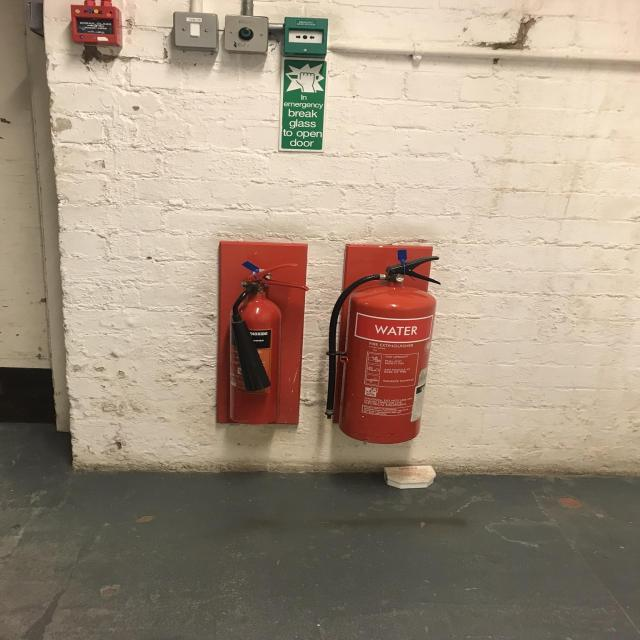fire_extinguisher: (319, 252, 445, 446), (222, 261, 312, 426)
